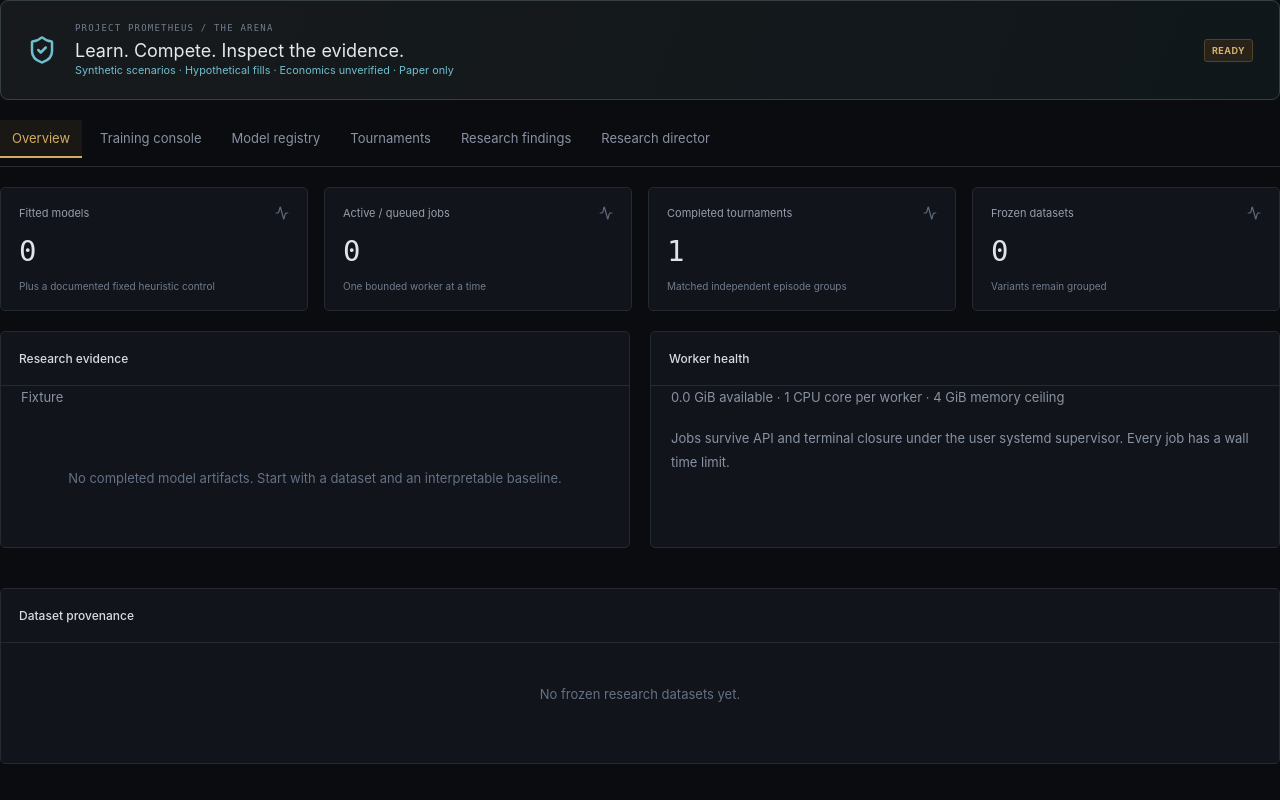
Test: renders a verified study with a shared group denominator and paired changes
Click the tab "Tournaments".
click(391, 139)  # box [338,120,443,158]
(page scrolled)
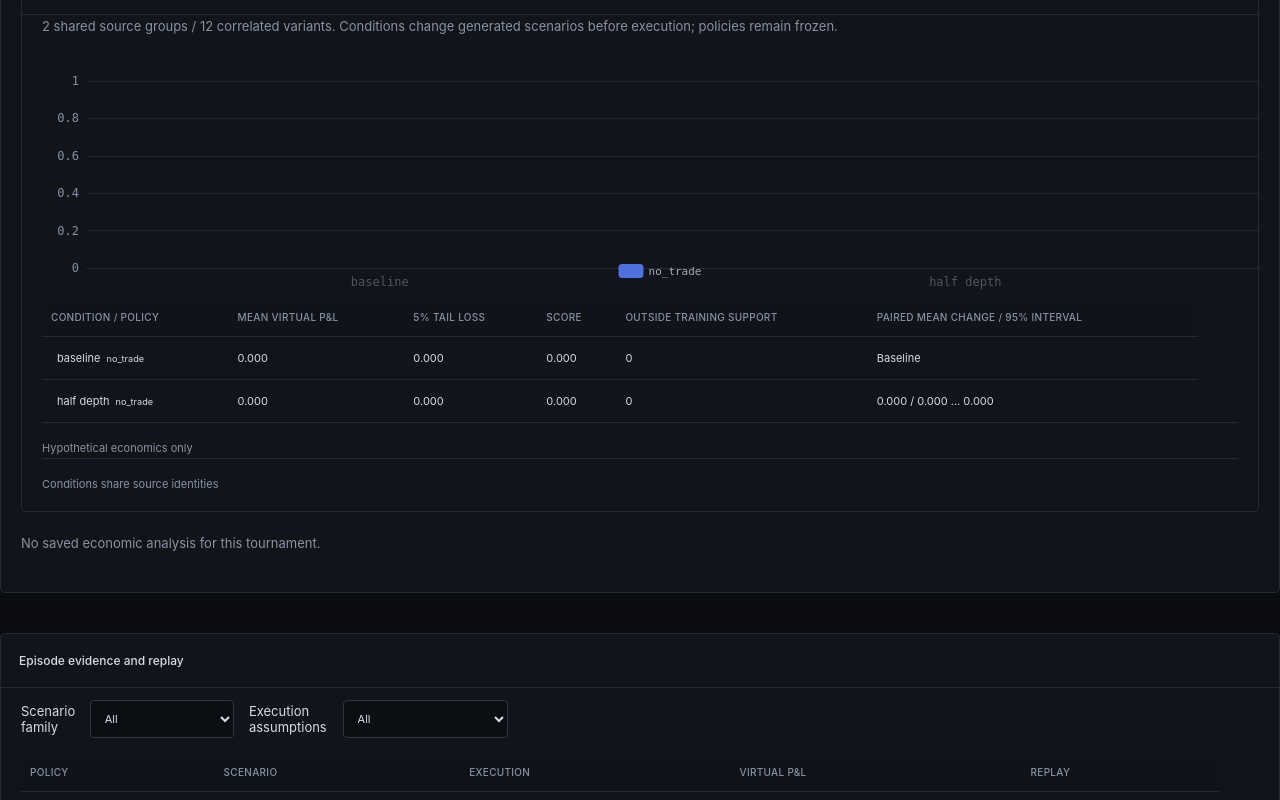
Check: the text "2 shared source groups / 12 correlated variants" is shown, box [42,18,838,34]
Check: the text "Conditions share source identities" is shown, box [42,458,1238,493]
Check: the button "half depth" is shown, box [51,393,116,409]
